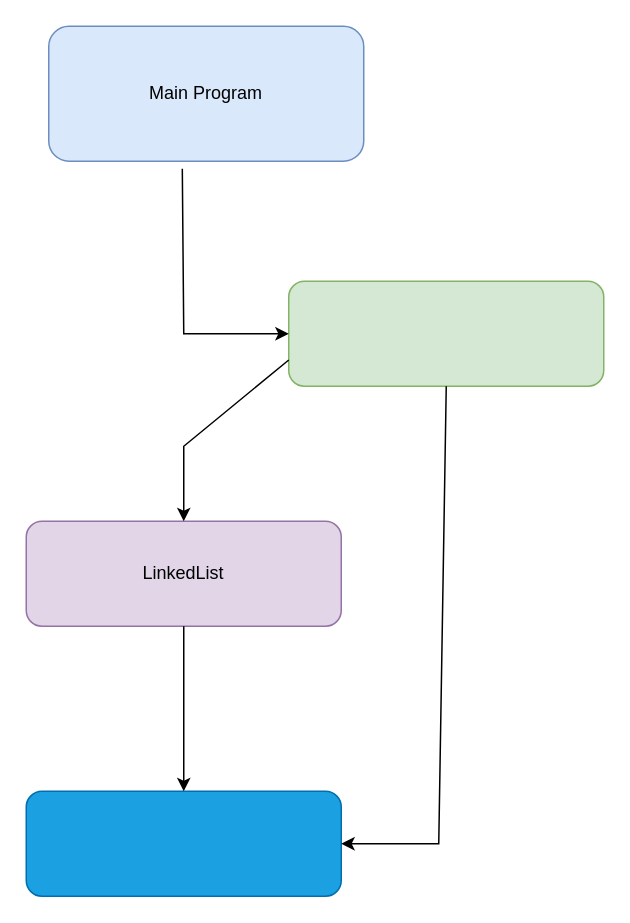
The diagram is 630 pixels wide and 923 high, and some of its shapes have lost their labels. Each missing label, with the centre of its shape:
"Database(File)" goes at [183,843].
"Reservation Class" goes at [445,333].
